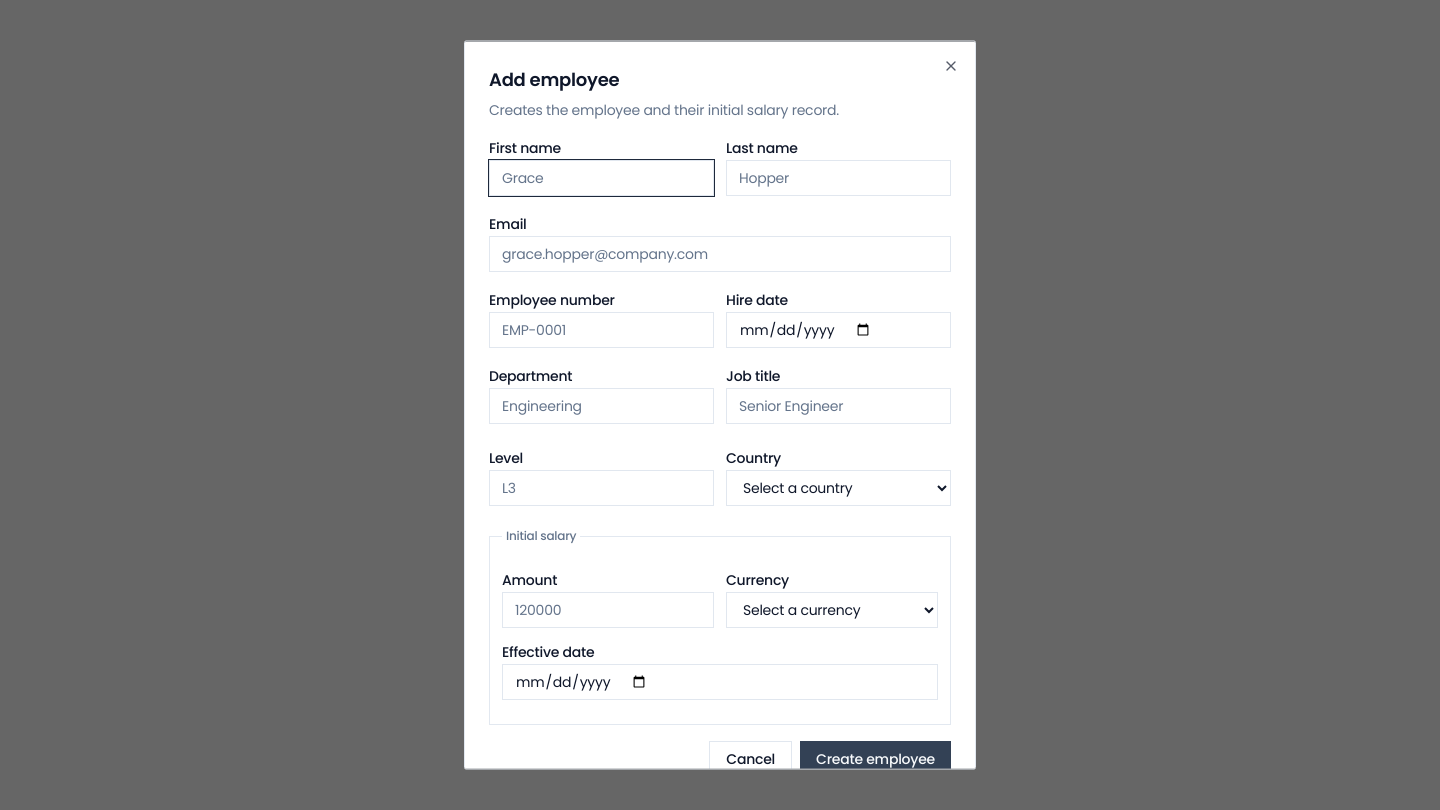
Test case: CreateEmployeeDialog › blocks submit and shows the schema's own message for a malformed employee number
Type "nope" into the field labelled "Employee number" at (602, 330), box [489,312,714,348]
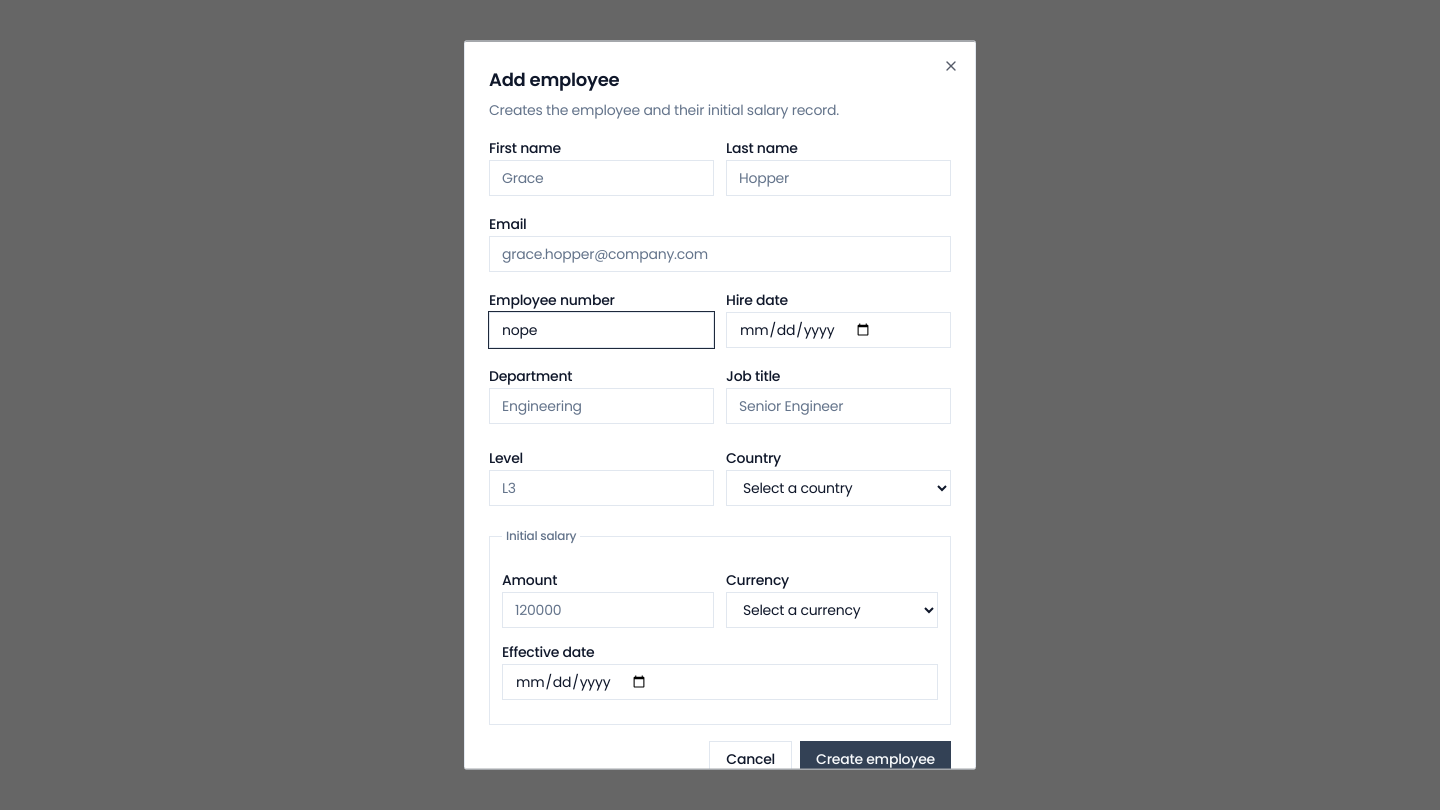
Click the button "Create employee" at (876, 758), box [800,740,951,776]
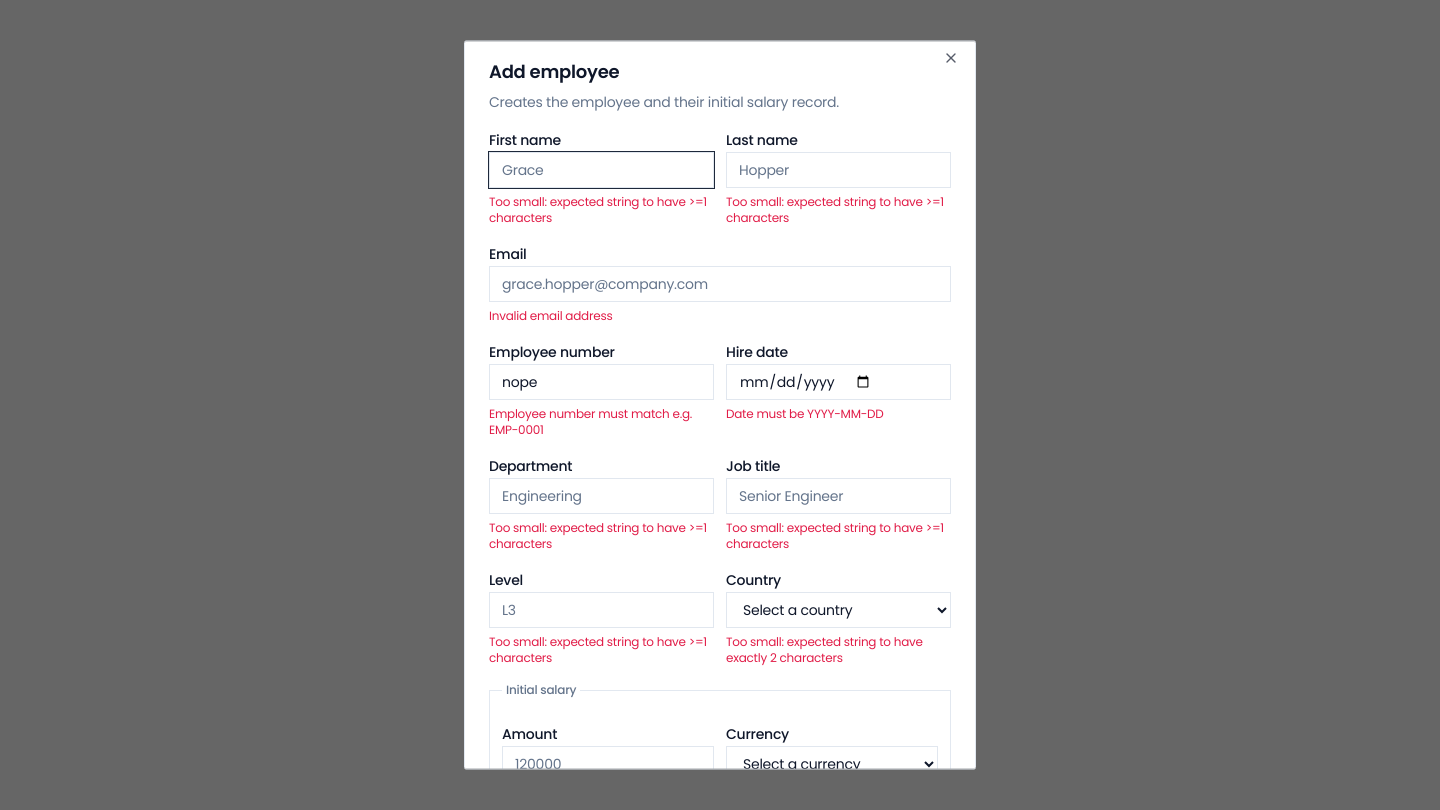
Expected: the text "Employee number must match e.g. EMP-0001" is shown, [489,406,714,438]
